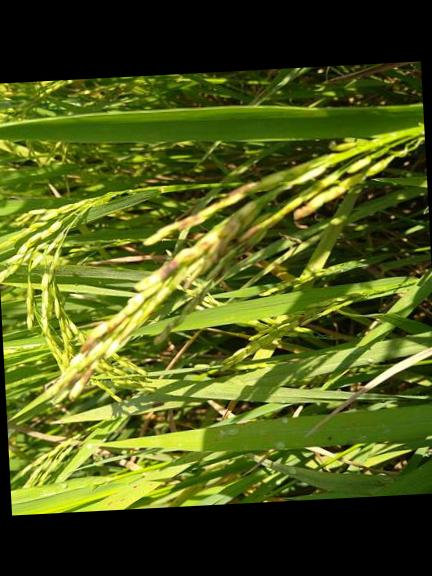Panicle Blight: (51, 201, 260, 407), (143, 181, 257, 246), (293, 179, 357, 218)
